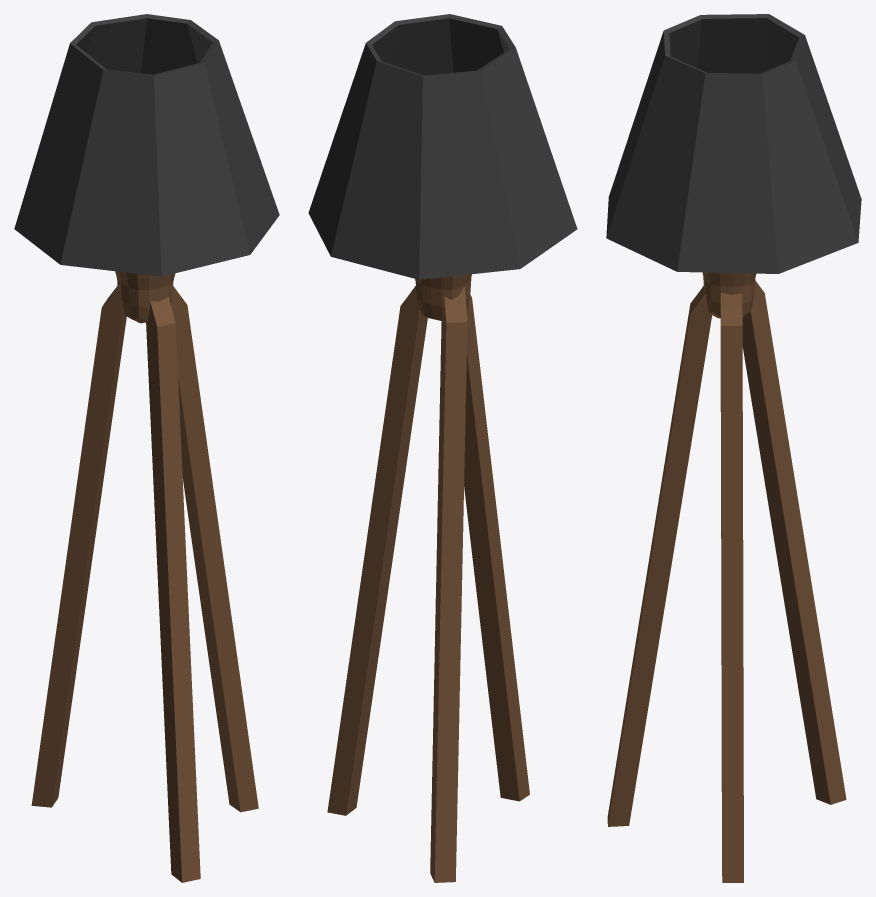
The model's file is Lamp_6.fbx.
3 renders of one model, left to right at view 1: azimuth 30°, elevation 25°; view 2: azimuth 150°, elevation 25°; view 3: azimuth 270°, elevation 25°, orthographic.
Visible parts, largest first — view 1: Lamp_6; view 2: Lamp_6; view 3: Lamp_6.
Boxes of the visible parts, left/top/right/bottom form: Lamp_6: left=14, top=14, right=279, bottom=882; Lamp_6: left=308, top=14, right=577, bottom=882; Lamp_6: left=606, top=14, right=861, bottom=882.
Bounding box in the file's own units: 85.23 × 85.71 × 292.
